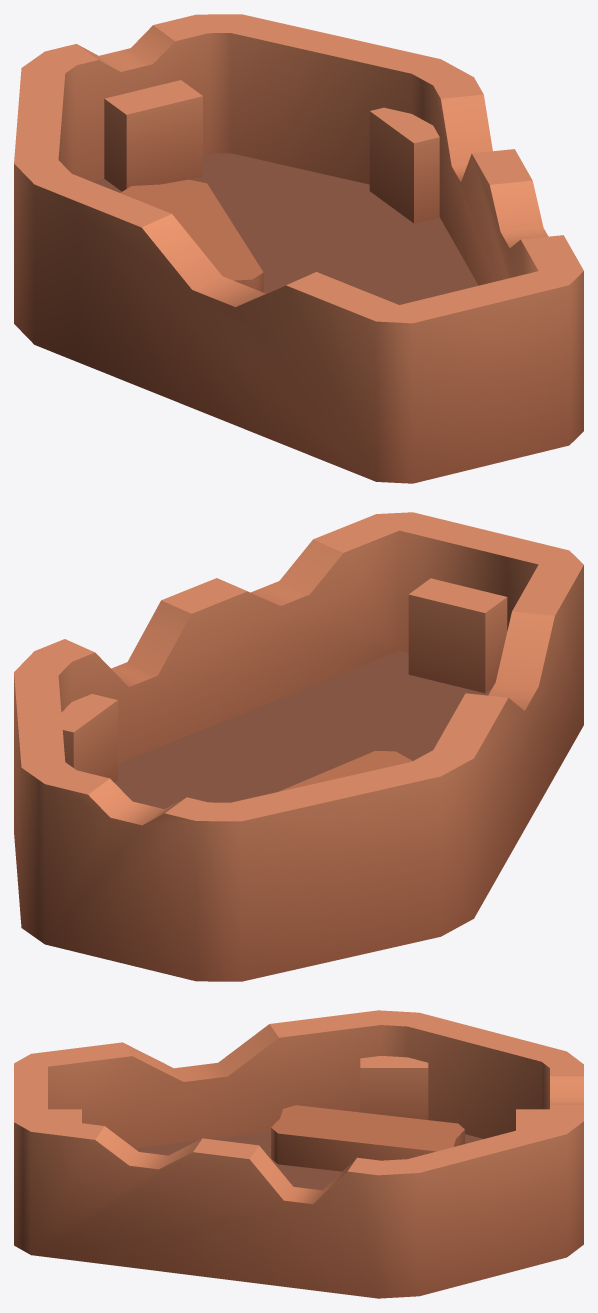
File: coffin-old.glb
3 renders of one model, top to bottom at view 1: azimuth 30°, elevation 25°; view 2: azimuth 150°, elevation 25°; view 3: azimuth 270°, elevation 25°, orthographic. The views are drawn at different scales.
Visible parts, largest first — view 1: coffin-old; view 2: coffin-old; view 3: coffin-old.
Part boxes in pixels (left/top/right/bottom): coffin-old: left=14, top=14, right=583, bottom=483; coffin-old: left=14, top=512, right=583, bottom=981; coffin-old: left=14, top=1010, right=583, bottom=1298.
Bounding box in the file's own units: 11.48 × 4 × 16.76.
1 material, 1 textured.
